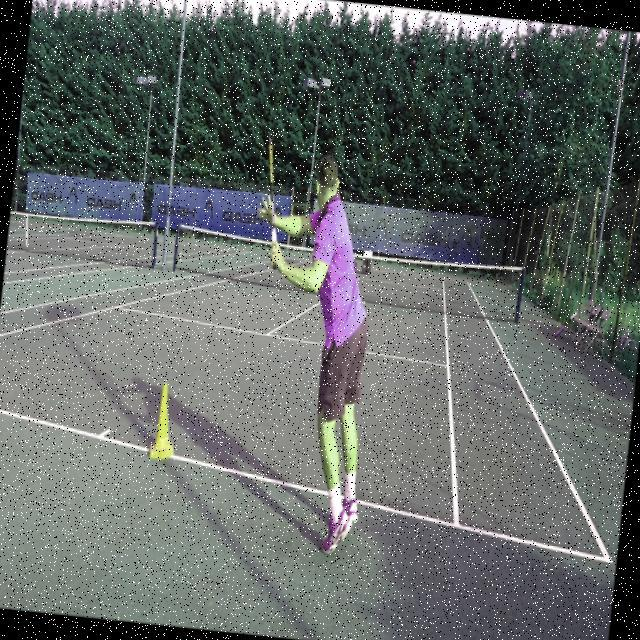court: (0, 259, 639, 612)
net: (165, 226, 522, 314)
player: (222, 120, 400, 560)
